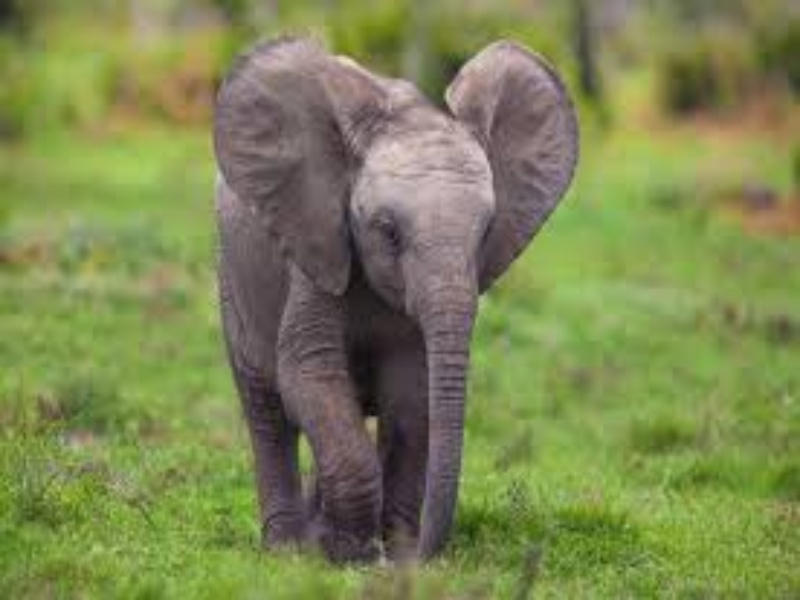elephant: (123, 14, 635, 587)
